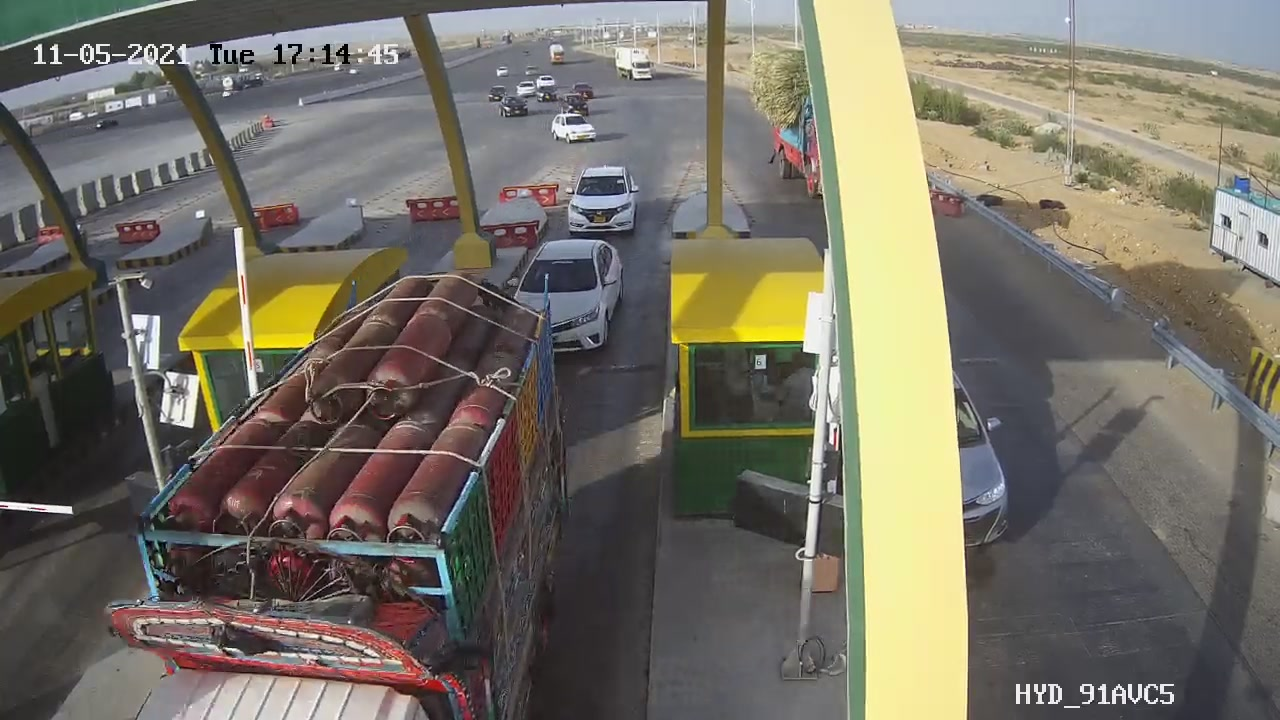F1: (551, 153, 653, 247)
